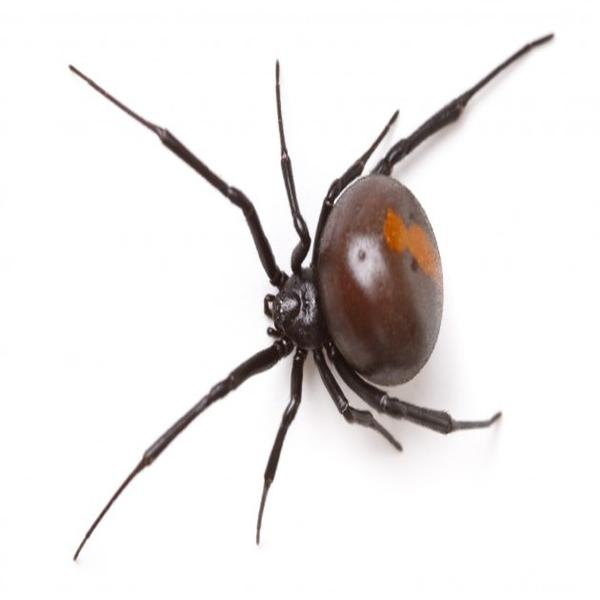Redback Spider: (72, 38, 539, 552)
